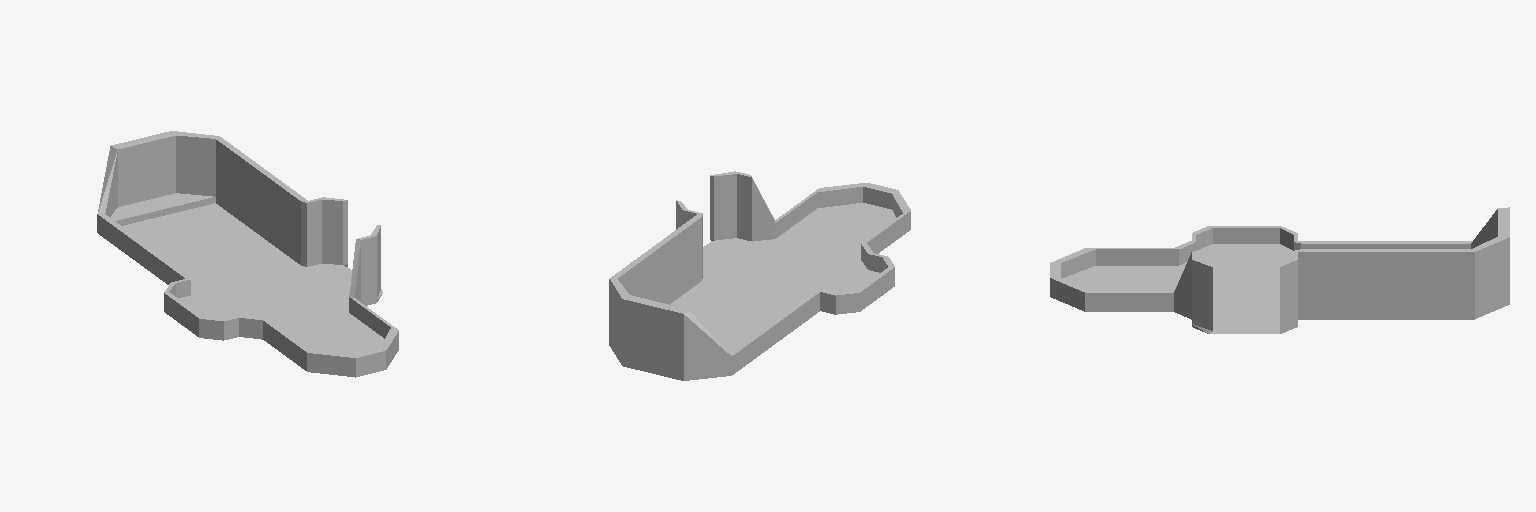
Rendered from TempleBlockout.obj.
The picture shows the model from 3 angles: view 1: azimuth 30°, elevation 25°; view 2: azimuth 150°, elevation 25°; view 3: azimuth 270°, elevation 25°; orthographic projection.
Parts seen in each view (by area): view 1: TempleBlockout; view 2: TempleBlockout; view 3: TempleBlockout.
Part boxes in pixels (left/top/right/bottom): TempleBlockout: left=97, top=131, right=398, bottom=377; TempleBlockout: left=609, top=171, right=910, bottom=380; TempleBlockout: left=1050, top=207, right=1509, bottom=333.
Bounding box in the file's own units: 60 × 21 × 130.